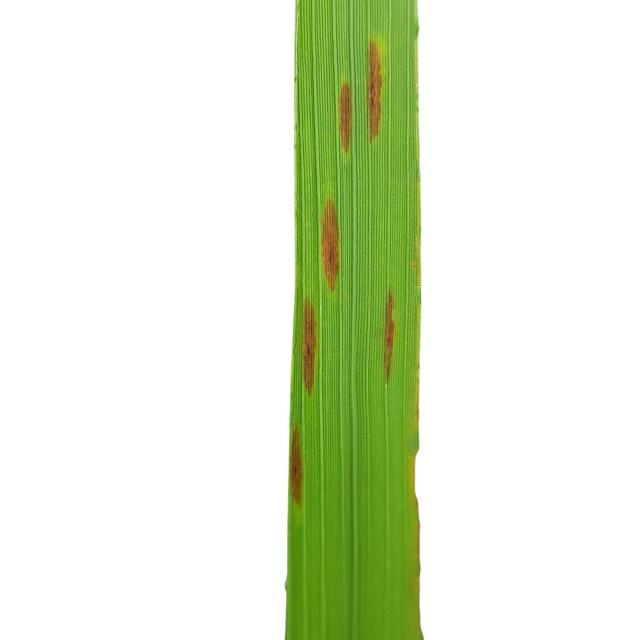Narrow brown: (246, 0, 488, 640)
